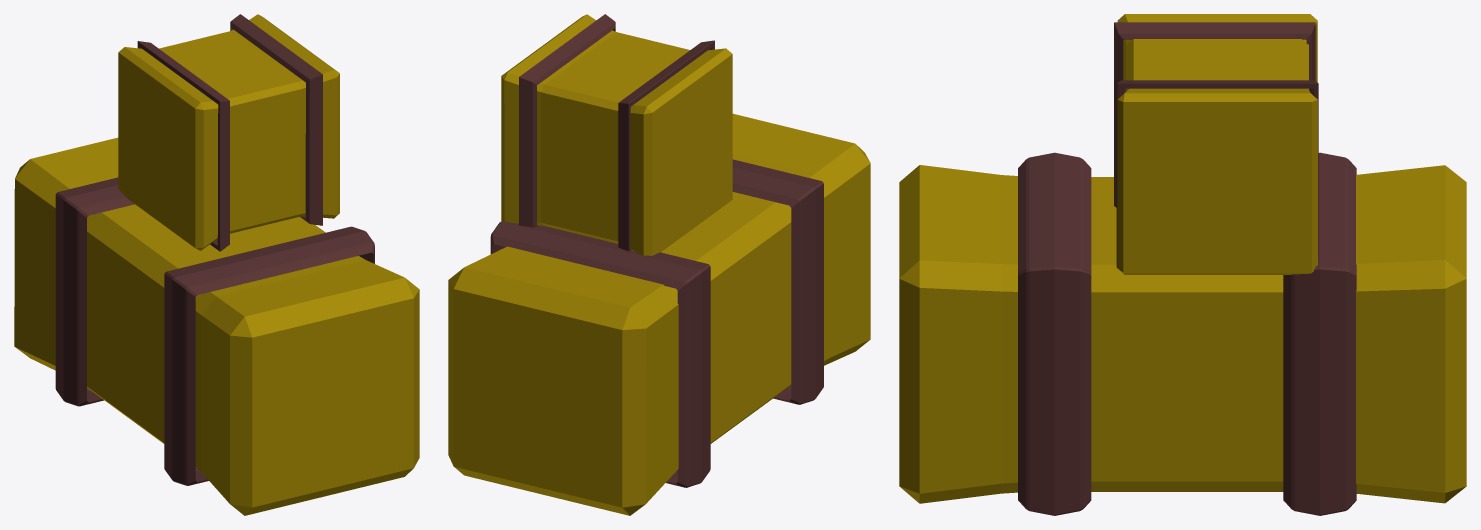
File: Haybal (1).fbx
3 views of the same model, side by side, from view 1: azimuth 30°, elevation 25°; view 2: azimuth 150°, elevation 25°; view 3: azimuth 270°, elevation 25° (orthographic). The views are drawn at different scales.
Parts seen in each view (by area): view 1: Prop_Chicken_Coop_House_Deko_Haybal_big_base_geo1; view 2: Prop_Chicken_Coop_House_Deko_Haybal_big_base_geo1; view 3: Prop_Chicken_Coop_House_Deko_Haybal_big_base_geo1.
Part boxes in pixels (x1,y1,x2,y2): Prop_Chicken_Coop_House_Deko_Haybal_big_base_geo1: (14,14,419,515); Prop_Chicken_Coop_House_Deko_Haybal_big_base_geo1: (448,14,870,515); Prop_Chicken_Coop_House_Deko_Haybal_big_base_geo1: (899,14,1466,515).
Bounding box in the file's own units: 84.05 × 142 × 173.
